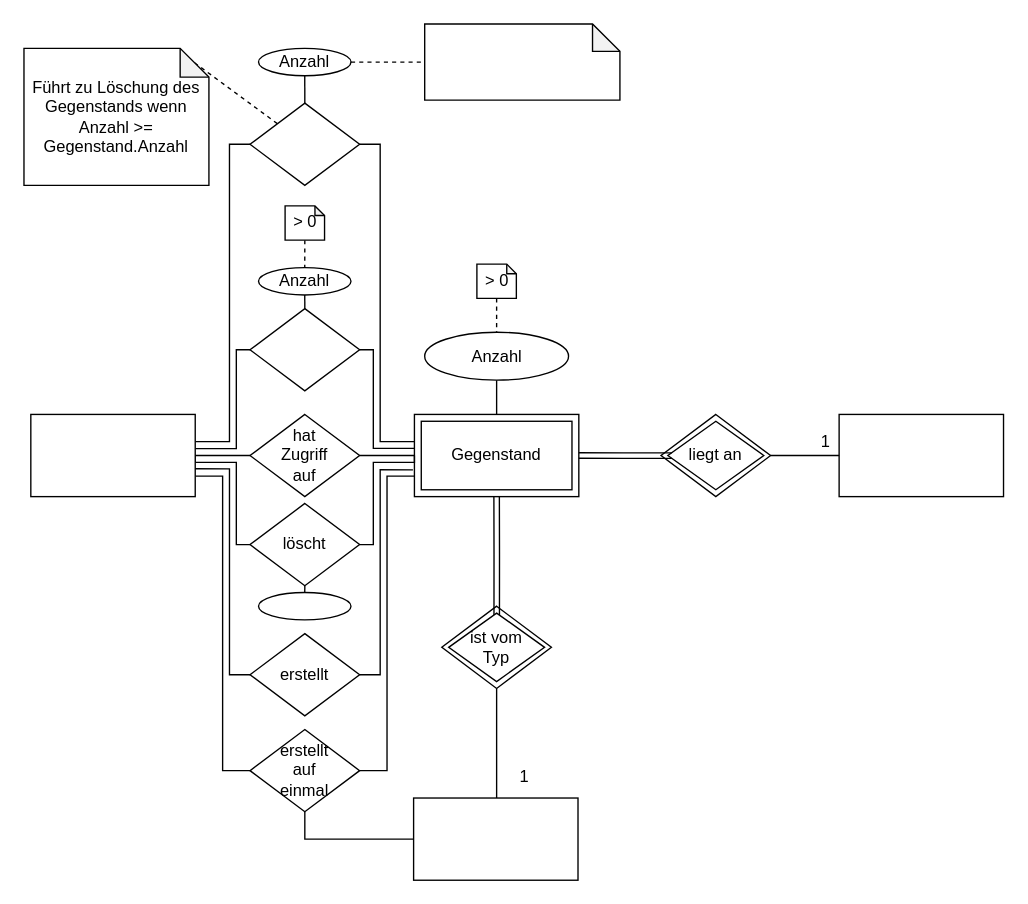
This 1028x904 diagram has some shape labels left out. Here are the shapes that lost their labels. From the top down, the centre of each, then its label:
At [521,61]: "> 0 und Warnung, wenn > Gegenstand.Anzahl".
At [304,143]: "lagert aus".
At [304,349]: "lagert ein".
At [112,455]: "Nutzer".
At [921,455]: "Lagerort".
At [304,605]: "Grund".
At [495,838]: "Gegenstandstyp".
